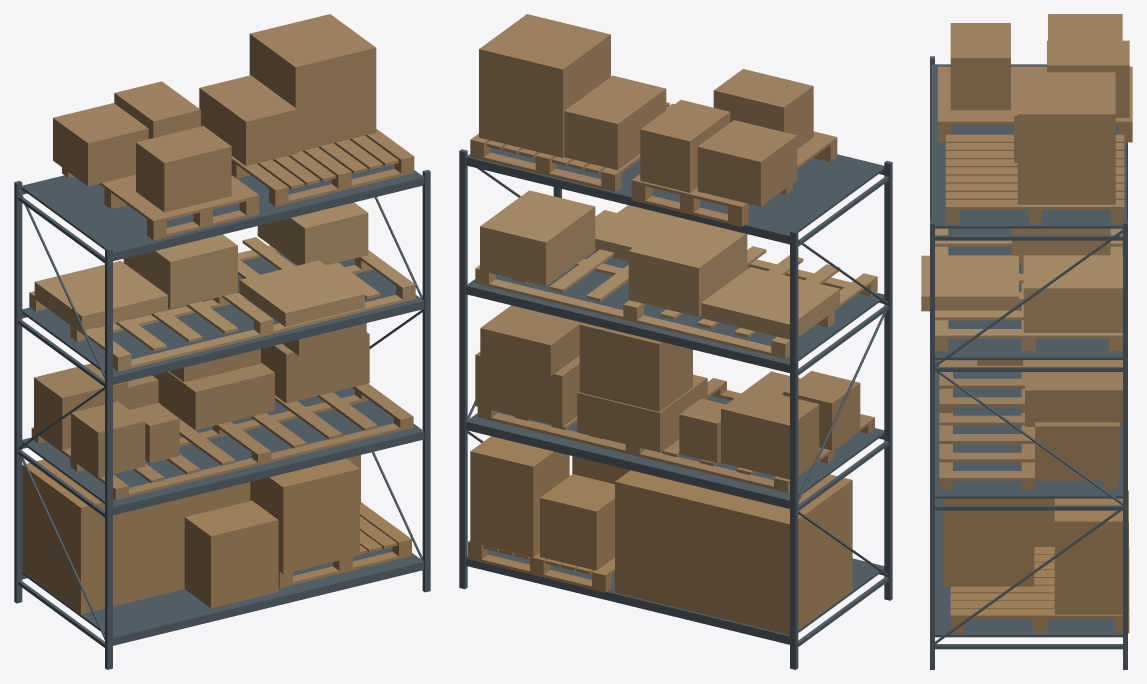
The model's file is warehouse-rack-pallets.glb.
3 renders of one model, left to right at view 1: azimuth 30°, elevation 25°; view 2: azimuth 150°, elevation 25°; view 3: azimuth 270°, elevation 25°, orthographic. The views are drawn at different scales.
Visible parts, largest first — view 1: warehouse_rack; view 2: warehouse_rack; view 3: warehouse_rack.
Boxes of the visible parts, x1,y1,x2,y2 form: warehouse_rack: (14, 14, 430, 669); warehouse_rack: (459, 14, 892, 669); warehouse_rack: (921, 14, 1132, 669).
Size of the model in its own units: 2.44 by 3.73 by 1.3.
